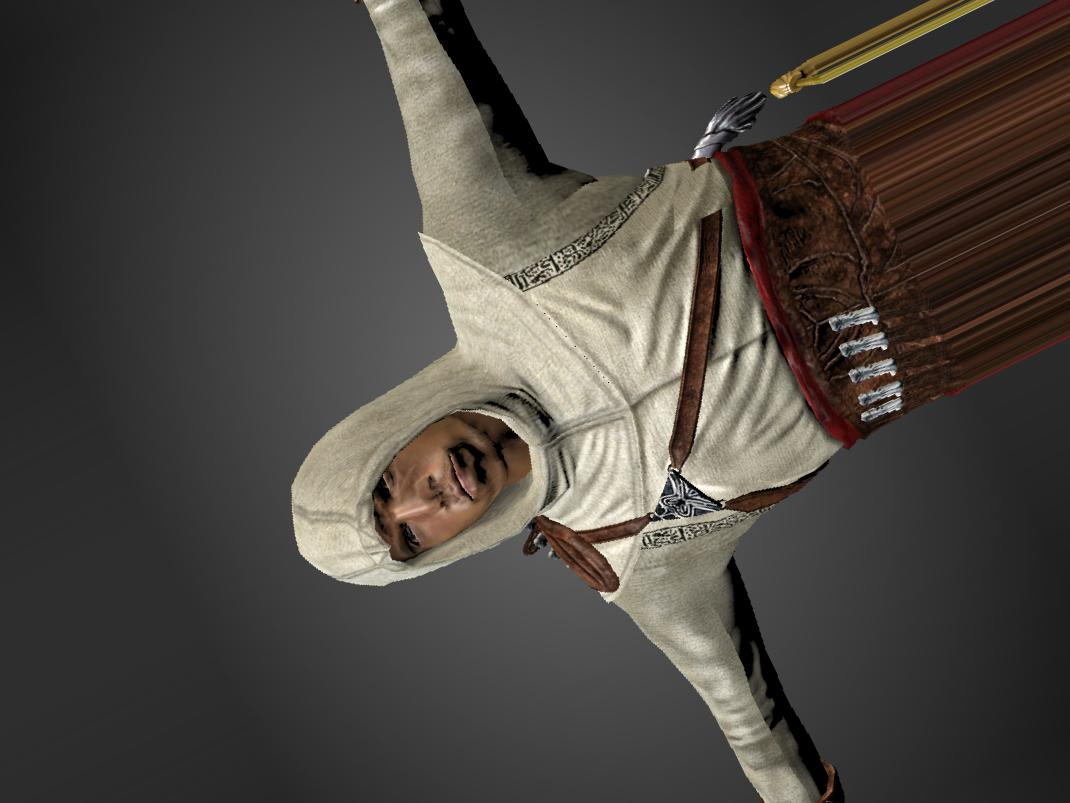clip: (687, 153, 736, 223)
